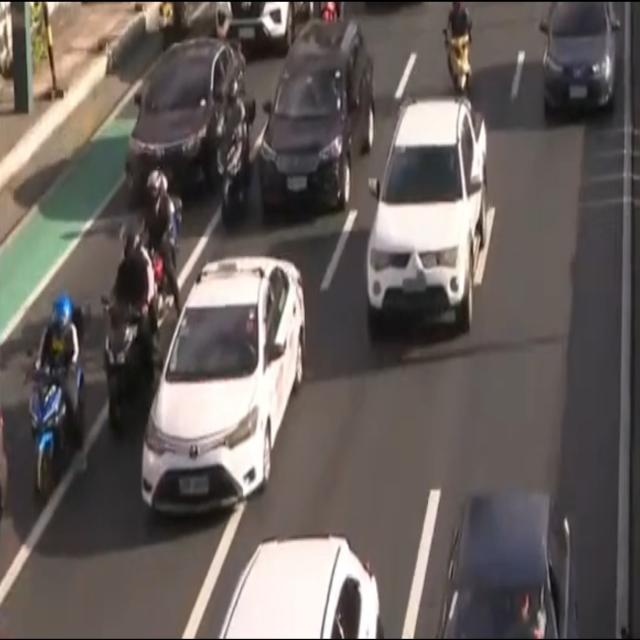Motorcycle: (23, 274, 89, 499), (103, 225, 155, 421), (208, 74, 258, 237), (142, 167, 180, 320), (443, 0, 481, 99)
SUV: (365, 101, 488, 326), (260, 18, 376, 207), (218, 526, 382, 640)
Sedan: (134, 252, 303, 517), (434, 484, 579, 640), (125, 38, 243, 205), (542, 0, 621, 116)
